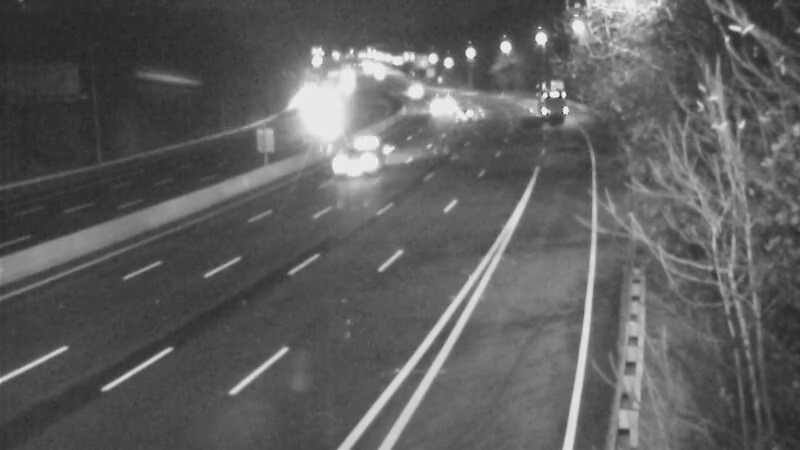vehicle: (314, 122, 394, 202), (387, 62, 437, 112), (524, 77, 574, 127), (415, 79, 465, 129), (440, 87, 490, 137)
